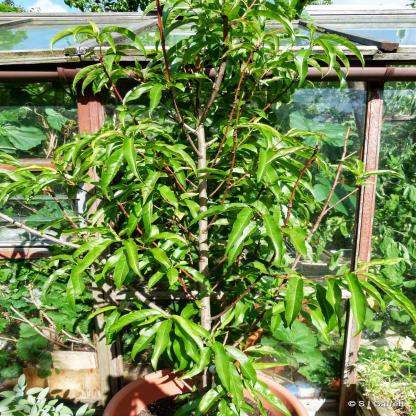peach leaf: (339, 276, 372, 339), (104, 308, 167, 341), (223, 206, 256, 266), (209, 341, 234, 402), (75, 241, 117, 277), (149, 315, 175, 372), (99, 148, 125, 201), (280, 276, 302, 333), (123, 238, 150, 280), (125, 138, 144, 184), (292, 47, 312, 90), (266, 215, 283, 265), (149, 84, 165, 122), (259, 147, 273, 188)
